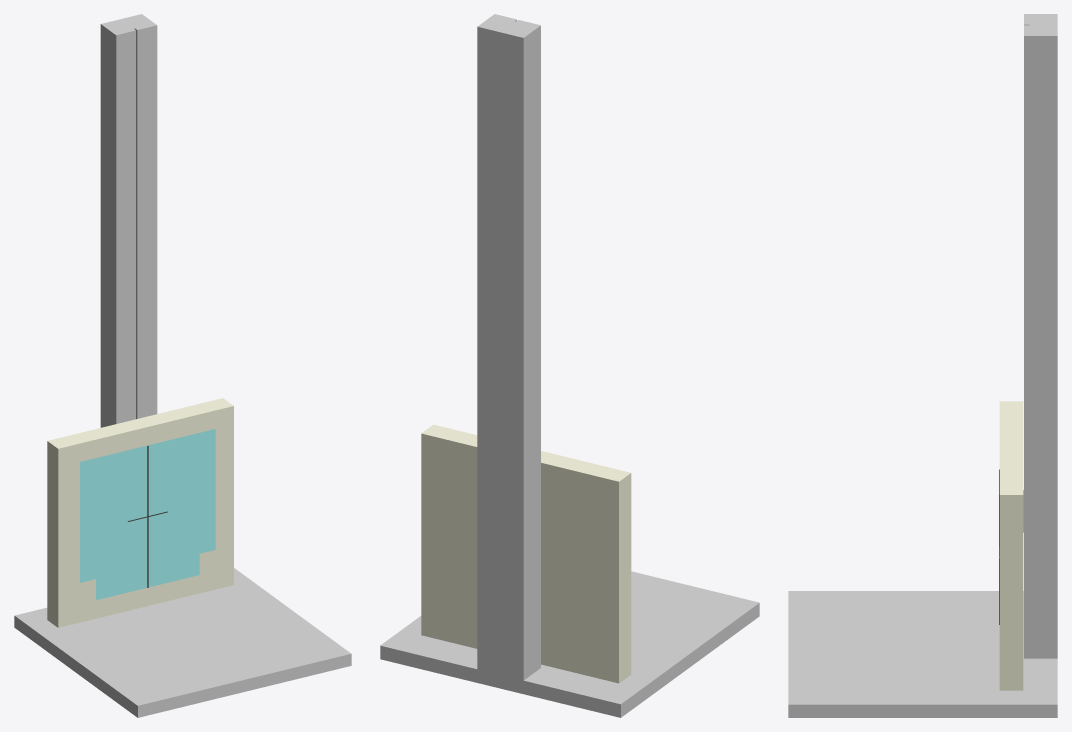
File: cassette.glb
The picture shows the model from 3 angles, left to right: view 1: azimuth 30°, elevation 25°; view 2: azimuth 150°, elevation 25°; view 3: azimuth 270°, elevation 25°; orthographic projection. The views are drawn at different scales.
Visible parts, largest first — view 1: Geom3D (×3); view 2: Geom3D (×2); view 3: Geom3D (×2).
Boxes of the visible parts, x1,y1,x2,y2 form: Geom3D (×3): (14,14,351,717); Geom3D (×2): (380,14,759,717); Geom3D (×2): (788,14,1057,717).
Size of the model in its own units: 1.52 by 3.97 by 1.52.
